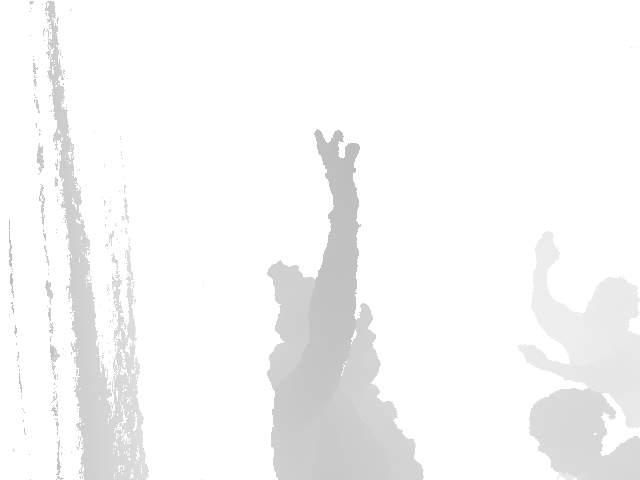hand: (313, 129, 359, 188), (534, 230, 560, 267)
head: (269, 262, 378, 371), (587, 278, 638, 332)
person: (266, 129, 425, 480), (516, 230, 640, 428)
